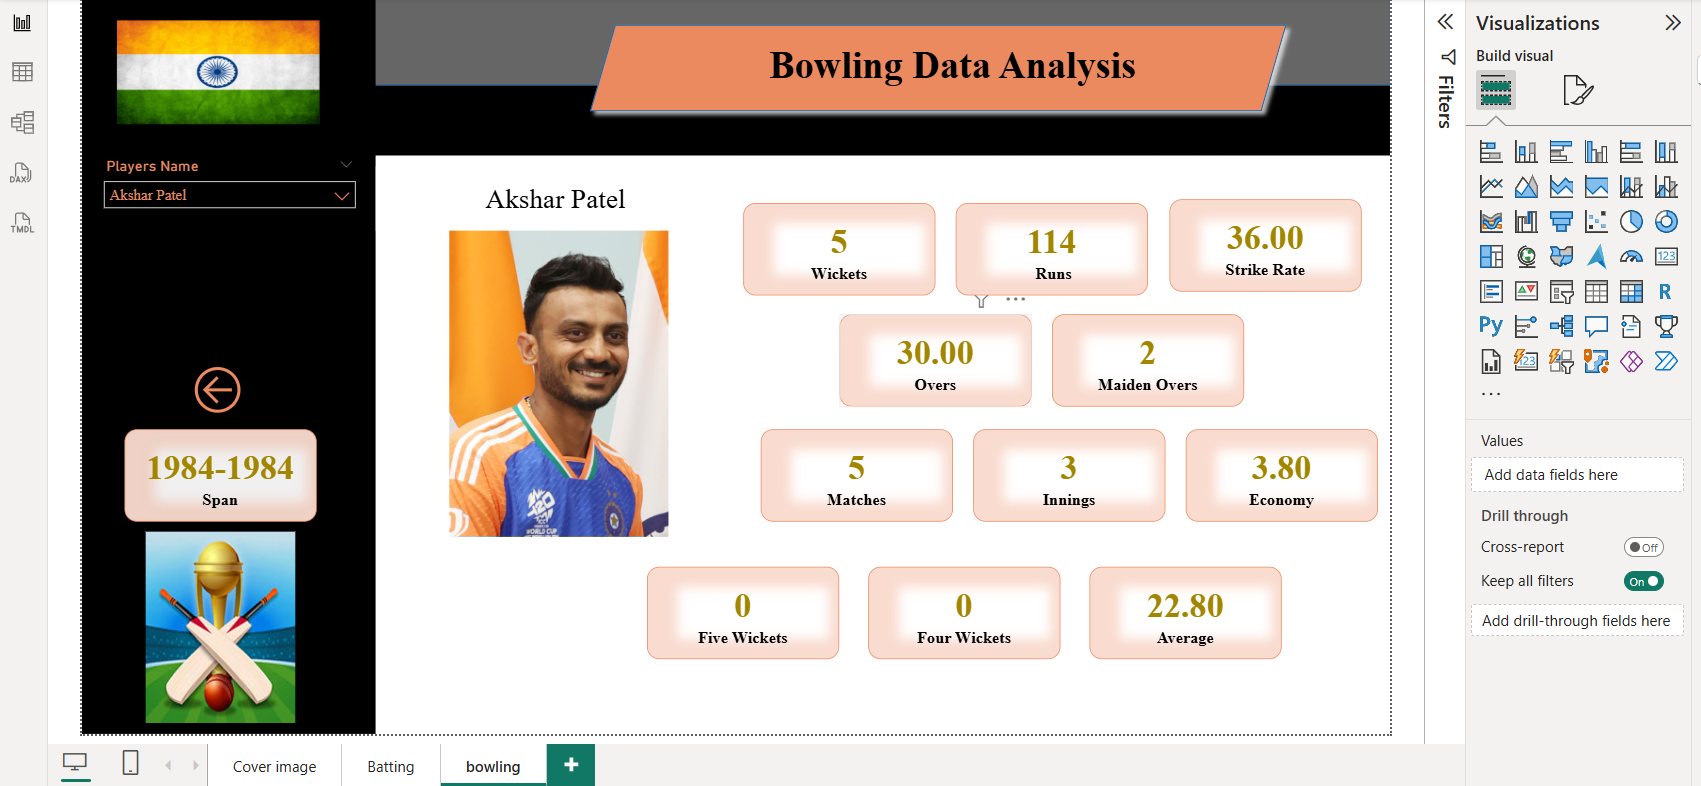

The dashboard page shown, as its layout file describes it:
{"tool":"powerbi","page":{"name":"bowling","canvas":[1280,720],"ordinal":2},"visuals":[{"type":"shape","box":[0,0,1280.3,85.6],"z":0},{"type":"shape","box":[0,85.6,1280.3,68.5],"z":1000},{"type":"shape","box":[0,0,287.4,94.2],"z":2000},{"type":"shape","box":[487.9,17.1,699.5,102.7],"z":3000},{"type":"image","box":[29.3,17.1,207.9,111.3],"z":4000},{"type":"textbox","box":[0,145.3,287.4,574.7],"z":5000},{"type":"card","fields":{"Values":["Min(Sheet2.Merged_span)"]},"box":[41.6,421.9,188.3,90.5],"z":6000},{"type":"card","fields":{"Values":["Sum(Sheet2.Ave)"]},"box":[985.6,556.4,188.3,90.5],"z":7000},{"type":"card","fields":{"Values":["Sum(Sheet2.4)"]},"box":[769.2,556.4,188.3,90.5],"z":8000},{"type":"card","fields":{"Values":["Sum(Sheet2.5)"]},"box":[552.7,556.4,188.3,90.5],"z":9000},{"type":"card","fields":{"Values":["Sum(Sheet2.Econ)"]},"box":[1079.8,421.9,188.3,90.5],"z":10000},{"type":"card","fields":{"Values":["Sum(Sheet2.Inns)"]},"box":[871.9,421.9,188.3,90.5],"z":11000},{"type":"card","fields":{"Values":["Sum(Sheet2.Mat)"]},"box":[664,421.9,188.3,90.5],"z":12000},{"type":"card","fields":{"Values":["Sum(Sheet2.Overs)"]},"box":[741,309.4,188.3,90.5],"z":13000},{"type":"card","fields":{"Values":["Sum(Sheet2.Runs)"]},"box":[854.9,200.5,188.3,90.5],"z":14000},{"type":"card","fields":{"Values":["Sum(Sheet2.Mdns)"]},"box":[948.9,309.4,188.3,90.5],"z":15000},{"type":"card","fields":{"Values":["Sum(Sheet2.SR)"]},"box":[1063.4,196.9,188.3,90.5],"z":16000},{"type":"card","fields":{"Values":["Sum(Sheet2.Wkts)"]},"box":[646.4,200.5,188.3,90.5],"z":17000},{"type":"actionButton","box":[103.9,354.6,81.9,57.5],"z":18000},{"type":"image","box":[57.5,517.3,156.5,196.9],"z":19000},{"type":"slicer","fields":{"Values":["Nametable_batting.Players Name"]},"box":[11,150.4,266.6,77],"z":20000},{"type":"textbox","box":[576,39.1,551.5,57.5],"z":21000},{"type":"tableEx","fields":{"Values":["battingimageurl.imageurlbatting"]},"box":[305.7,192,325.3,344.8],"z":22000},{"type":"card","fields":{"Values":["Min(Nametable_batting.Players Name)"]},"box":[287.4,165.1,352.2,62.4],"z":23000}]}

Visuals, with their boxes on the page's 1280x720 design canvas (x1, y1, x2, y2). These are canvas units, not pixel positions in the 1701x786 screenshot, which may show the page scaled, cropped or inside an application window:
shape: 0,0,1280,86
shape: 0,86,1280,154
shape: 0,0,287,94
shape: 488,17,1187,120
image: 29,17,237,128
textbox: 0,145,287,720
card - Min(Sheet2.Merged_span): 42,422,230,512
card - Sum(Sheet2.Ave): 986,556,1174,647
card - Sum(Sheet2.4): 769,556,958,647
card - Sum(Sheet2.5): 553,556,741,647
card - Sum(Sheet2.Econ): 1080,422,1268,512
card - Sum(Sheet2.Inns): 872,422,1060,512
card - Sum(Sheet2.Mat): 664,422,852,512
card - Sum(Sheet2.Overs): 741,309,929,400
card - Sum(Sheet2.Runs): 855,200,1043,291
card - Sum(Sheet2.Mdns): 949,309,1137,400
card - Sum(Sheet2.SR): 1063,197,1252,287
card - Sum(Sheet2.Wkts): 646,200,835,291
actionButton: 104,355,186,412
image: 58,517,214,714
slicer - Nametable_batting.Players Name: 11,150,278,227
textbox: 576,39,1128,97
tableEx - battingimageurl.imageurlbatting: 306,192,631,537
card - Min(Nametable_batting.Players Name): 287,165,640,228
